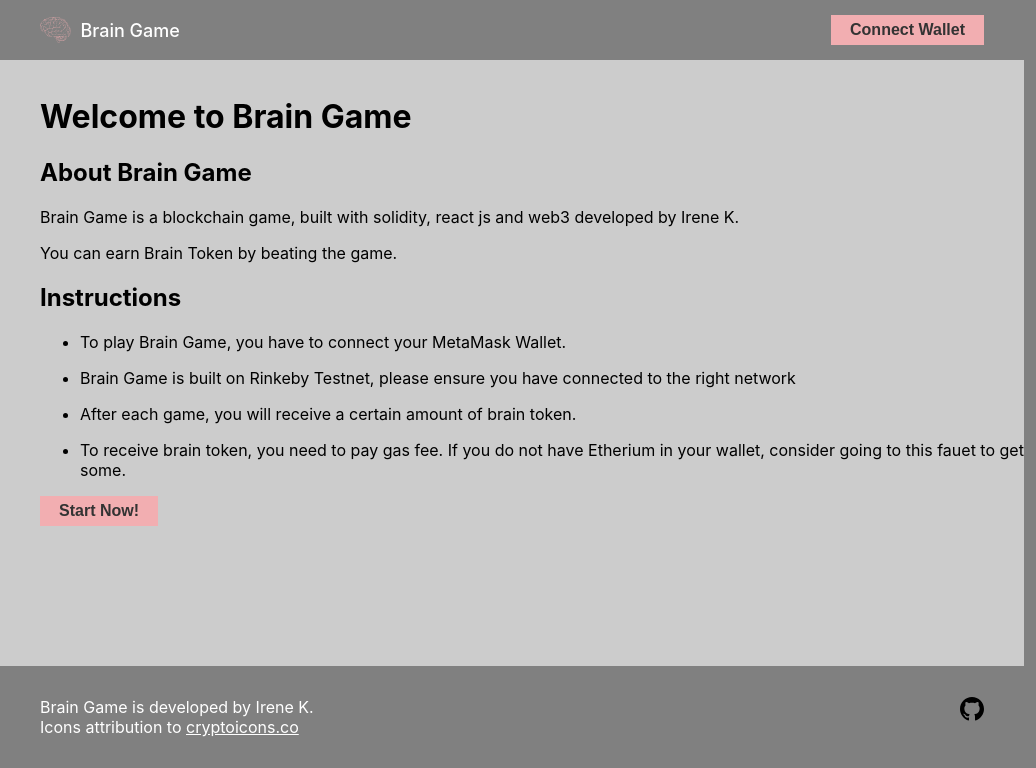
Test case: Render App - connecting page -  etherum detected and ask to connect wallet
This screenshot has width=1036, height=768.
Step 1. Click the button with test id "start-button" → (99, 511), box [40,496,158,526]
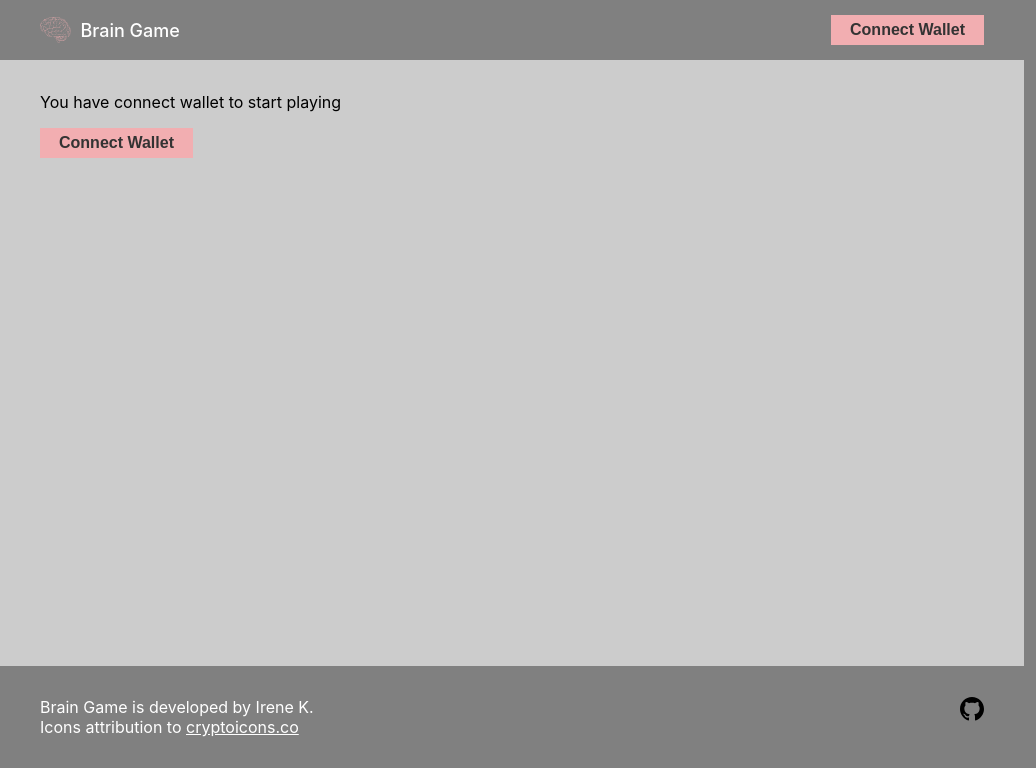
Result: the button with test id "connect-wallet-button" is shown at [40,128,193,158]
Result: the text "You have connect wallet to start playing" is shown at [40,92,341,112]
